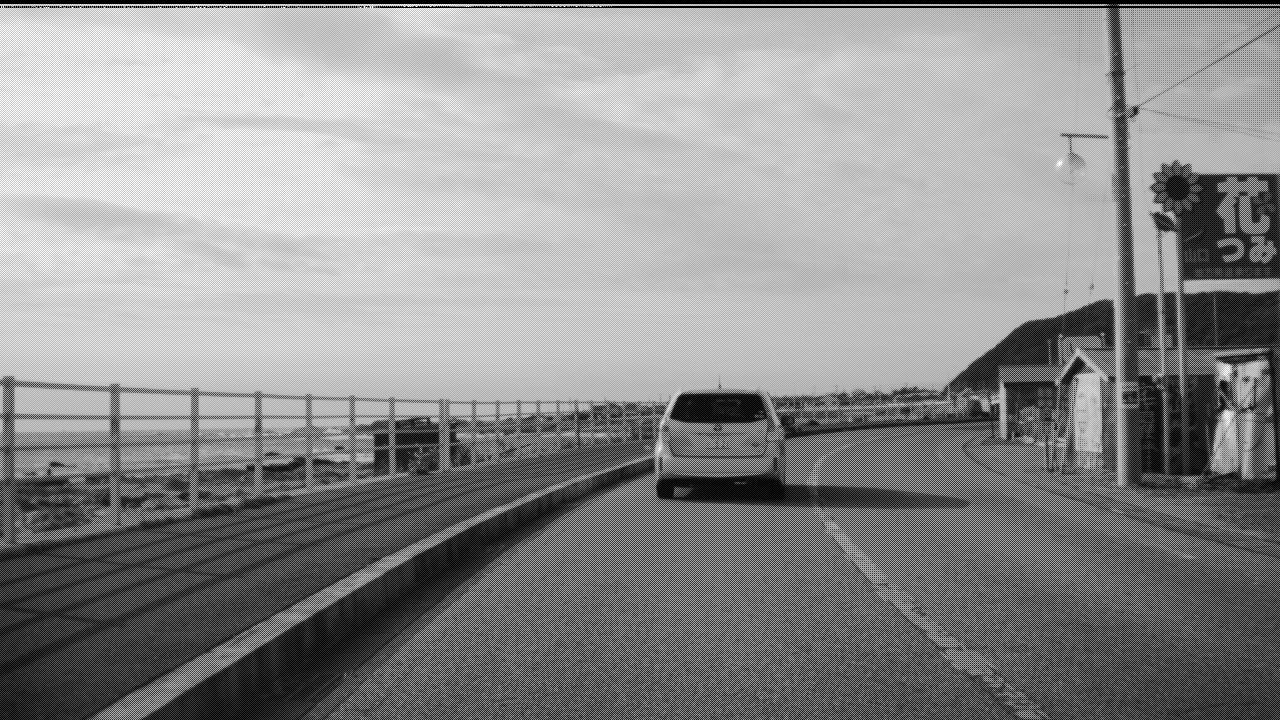pole: (1100, 1, 1141, 481), (1156, 230, 1173, 474), (1177, 279, 1192, 475)
